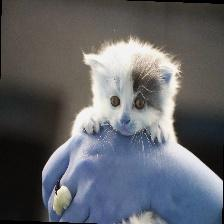kedo: (81, 41, 178, 144)
